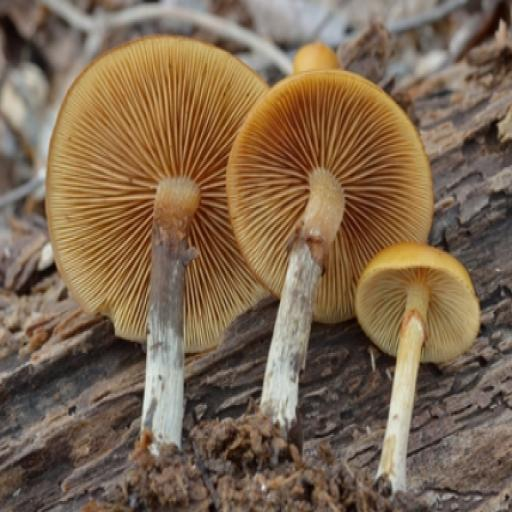Funeral Bell: (39, 26, 485, 488)
